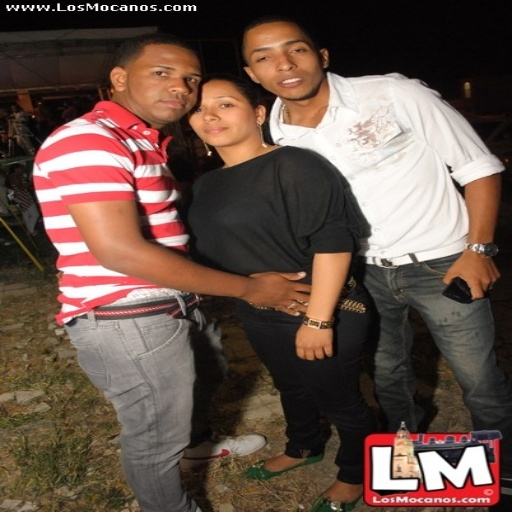hand: (205, 263, 338, 313), (439, 250, 501, 300), (291, 320, 332, 364)
